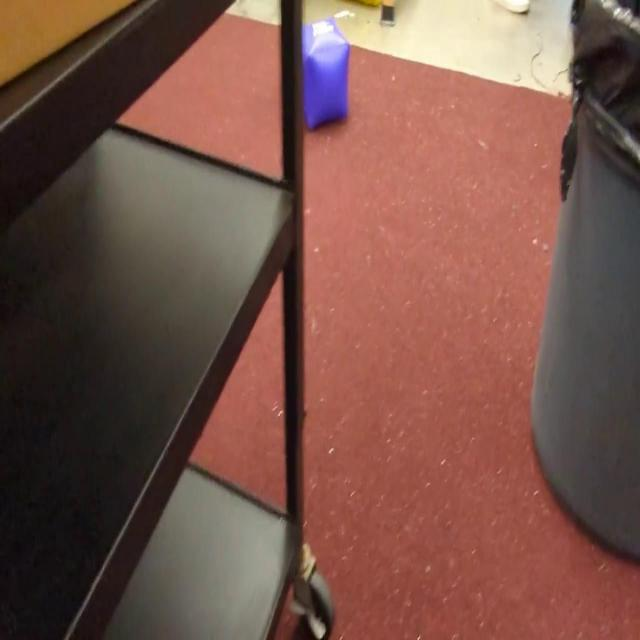frc_cube: (301, 19, 351, 130)
